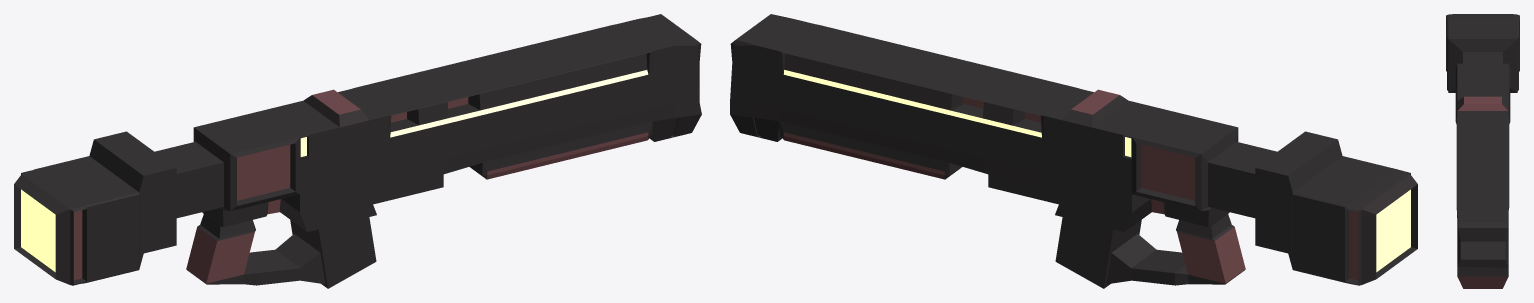
Rendered from Spacegun1Lazer.fbx.
3 renders of one model, left to right at view 1: azimuth 30°, elevation 25°; view 2: azimuth 150°, elevation 25°; view 3: azimuth 270°, elevation 25°, orthographic. The views are drawn at different scales.
Visible parts, largest first — view 1: Cube; view 2: Cube; view 3: Cube.
Part boxes in pixels (left/top/right/bottom): Cube: left=14, top=14, right=701, bottom=288; Cube: left=730, top=14, right=1417, bottom=288; Cube: left=1446, top=14, right=1519, bottom=288.
Bounding box in the file's own units: 463 × 116 × 65.39.
